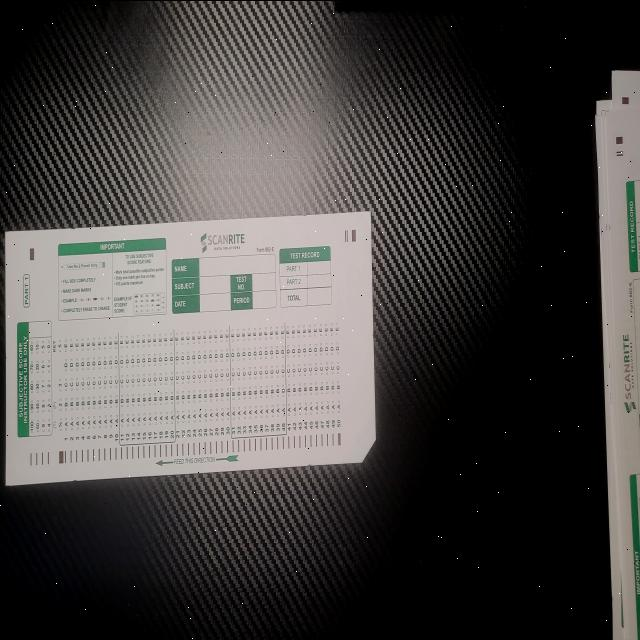scantron: (5, 210, 377, 484)
